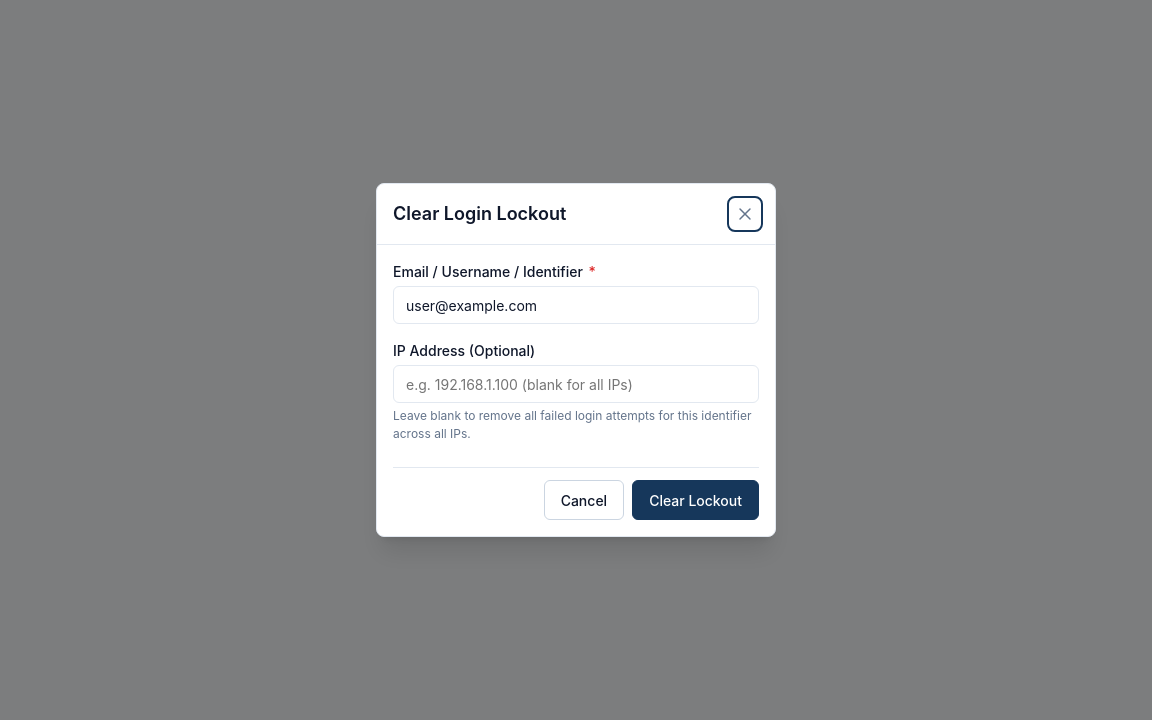
ClearLockoutModal › displays server error message on failure
Click the button with test id "clear-lockout-submit-btn" at (696, 500), box top-left (632, 480), bottom-right (759, 520)
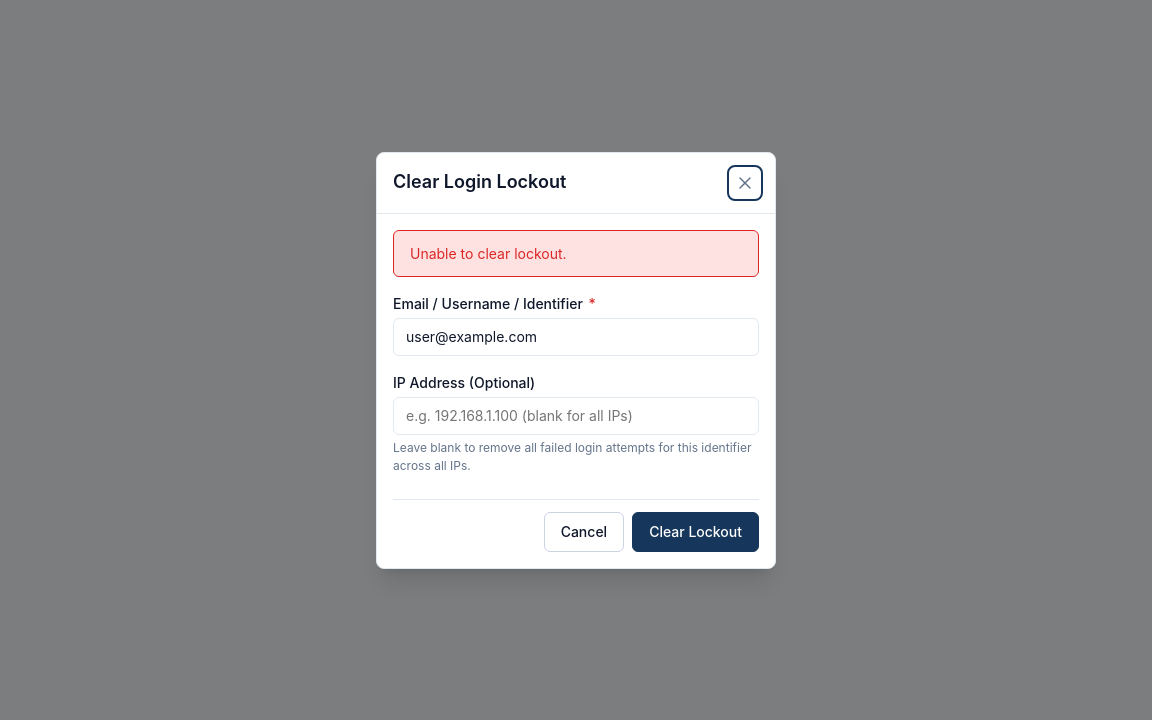
Expected: the message with test id "clear-lockout-error" reads "Unable to clear lockout.", top-left (410, 244), bottom-right (567, 262)
